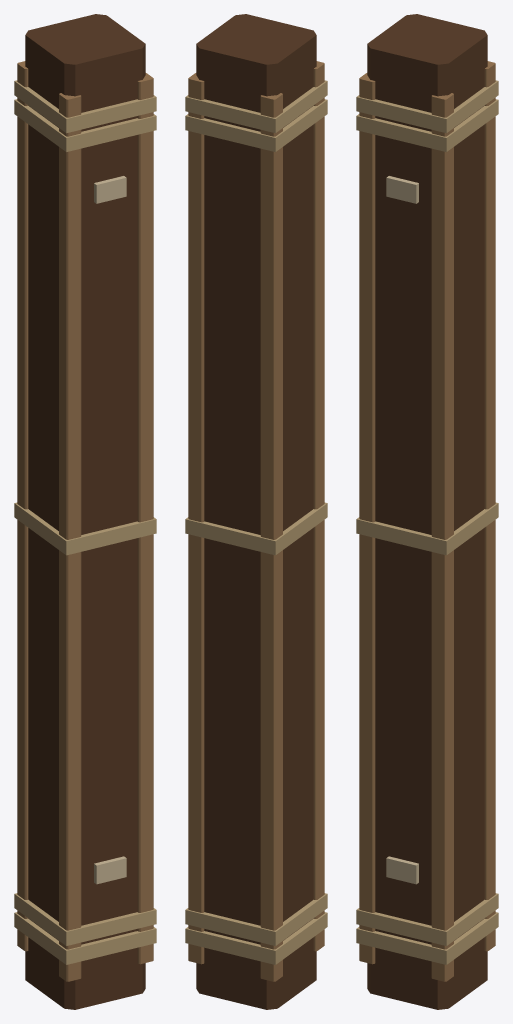
Rendered from pillar.glb.
3 views of the same model, side by side, from view 1: azimuth 30°, elevation 25°; view 2: azimuth 150°, elevation 25°; view 3: azimuth 330°, elevation 25° (orthographic).
Visible parts, largest first — view 1: pillar_mesh; view 2: pillar_mesh; view 3: pillar_mesh.
Boxes of the visible parts, bbox=[...] form: pillar_mesh: bbox=[14, 14, 156, 1009]; pillar_mesh: bbox=[185, 14, 327, 1009]; pillar_mesh: bbox=[356, 14, 498, 1009].
Bounding box in the file's own units: 0.3 × 3 × 0.3.
